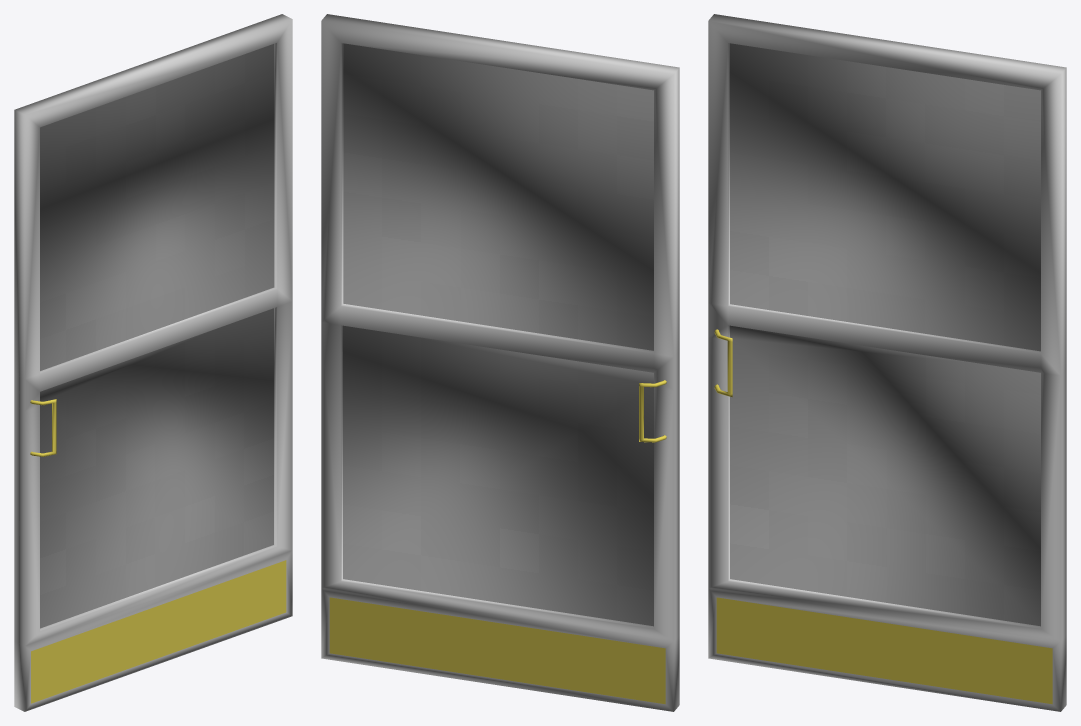
File: SW_corridor__R_lobby_R_Aula_Ovi_2_Ikkunaav.FBX
The picture shows the model from 3 angles, left to right: view 1: azimuth 30°, elevation 25°; view 2: azimuth 150°, elevation 25°; view 3: azimuth 330°, elevation 25°; orthographic projection. The views are drawn at different scales.
Parts seen in each view (by area): view 1: SW_corridor__R_lobby_R_Aula_Ovi_2_Ikkunaav; view 2: SW_corridor__R_lobby_R_Aula_Ovi_2_Ikkunaav; view 3: SW_corridor__R_lobby_R_Aula_Ovi_2_Ikkunaav.
Part boxes in pixels (x1=…): SW_corridor__R_lobby_R_Aula_Ovi_2_Ikkunaav: x1=14, y1=14, x2=292, y2=711; SW_corridor__R_lobby_R_Aula_Ovi_2_Ikkunaav: x1=321, y1=14, x2=679, y2=711; SW_corridor__R_lobby_R_Aula_Ovi_2_Ikkunaav: x1=708, y1=14, x2=1066, y2=711.
Size of the model in its own units: 108 by 27.45 by 204.
